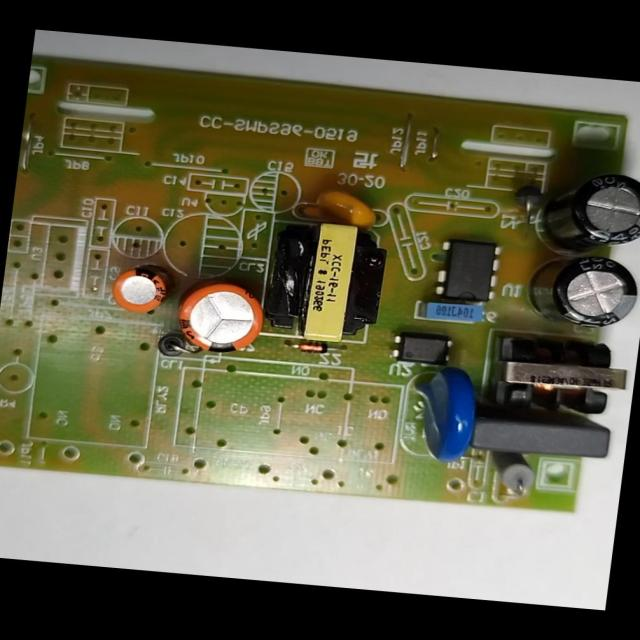Cap1: (170, 278, 267, 356)
Cap2: (106, 262, 169, 317)
Cap3: (523, 249, 639, 334)
Cap4: (529, 168, 639, 258)
MOSFET: (431, 238, 503, 304)
Mov: (404, 364, 484, 466)
Resistor: (486, 450, 540, 499)
Transformer: (259, 215, 390, 348), (484, 329, 636, 420)
